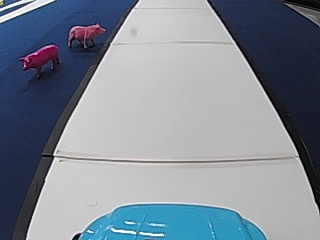pig: (17, 42, 60, 79), (65, 20, 105, 49)
